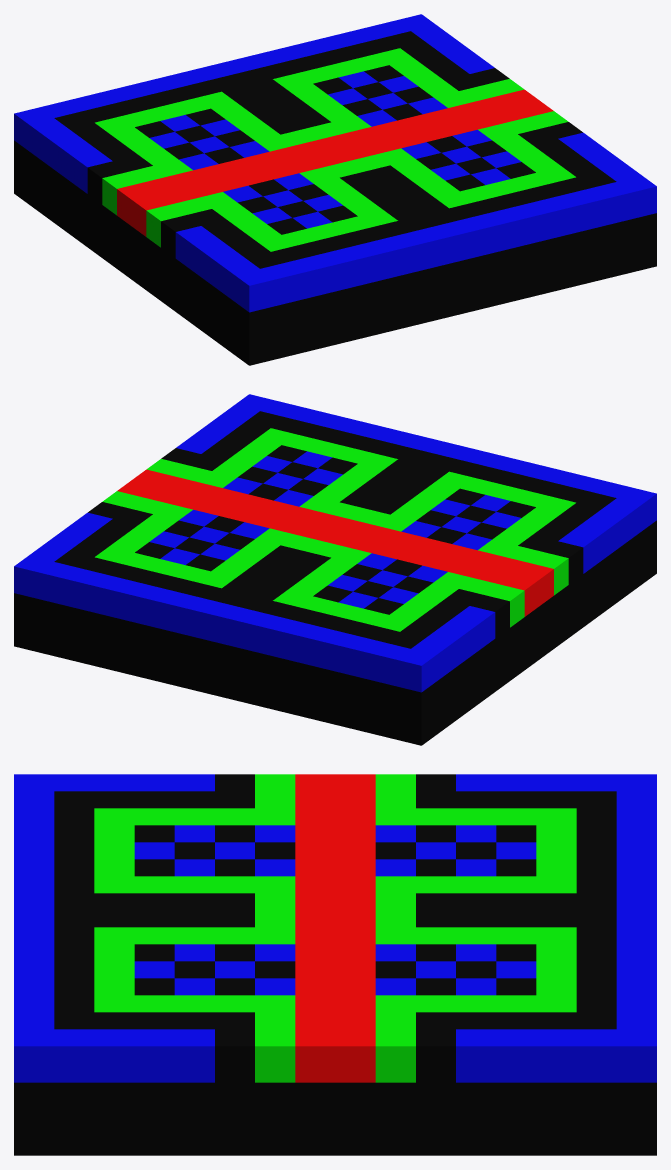
Rendered from stright2.obj.
The picture shows the model from 3 angles, top to bottom: view 1: azimuth 30°, elevation 25°; view 2: azimuth 150°, elevation 25°; view 3: azimuth 270°, elevation 25°; orthographic projection. The views are drawn at different scales.
Parts seen in each view (by area): view 1: stright2; view 2: stright2; view 3: stright2.
Boxes of the visible parts, x1,y1,x2,y2 form: stright2: (14, 14, 656, 365); stright2: (14, 394, 656, 745); stright2: (14, 774, 656, 1155).
Size of the model in its own units: 16 by 3 by 16.
1 material, 1 textured.
